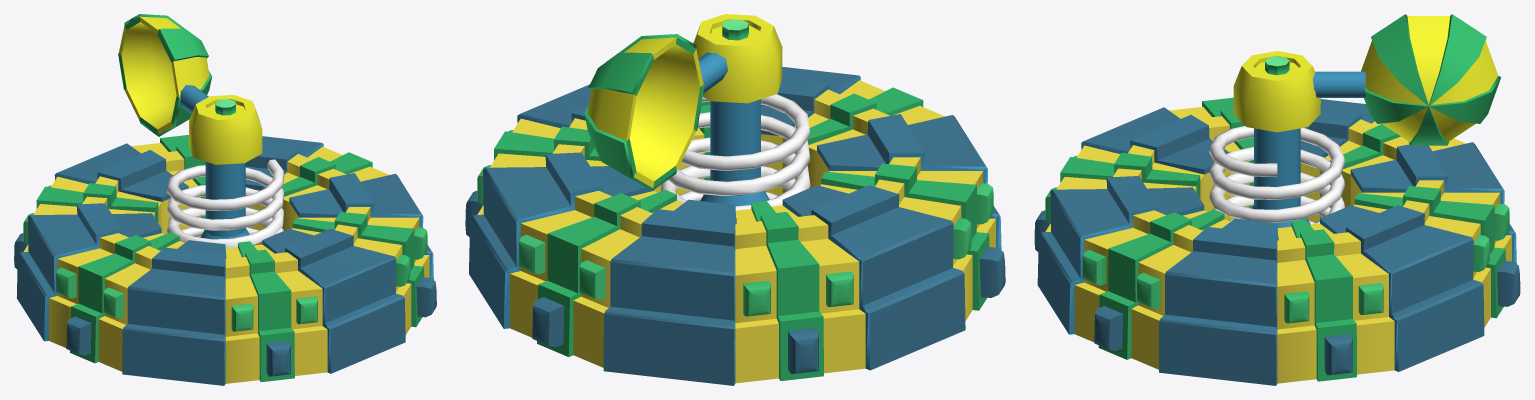
The model's file is island8.defense3.fbx.
3 renders of one model, left to right at view 1: azimuth 30°, elevation 25°; view 2: azimuth 150°, elevation 25°; view 3: azimuth 270°, elevation 25°, orthographic. The views are drawn at different scales.
Parts seen in each view (by area): view 1: island8-defense3, island8-defense3.02, island8-defense3.01; view 2: island8-defense3, island8-defense3.02, island8-defense3.01; view 3: island8-defense3, island8-defense3.02, island8-defense3.01.
Boxes of the visible parts, x1,y1,x2,y2 form: island8-defense3: (14,135,436,385); island8-defense3.02: (118,14,262,245); island8-defense3.01: (167,159,284,248); island8-defense3: (465,67,1005,385); island8-defense3.02: (584,14,782,206); island8-defense3.01: (660,94,810,210); island8-defense3: (1034,97,1520,385); island8-defense3.02: (1233,14,1501,228); island8-defense3.01: (1209,126,1345,224).
Bounding box in the file's own units: 4.77 × 2.87 × 4.77.
Materials: 1 (1 with a texture image).
